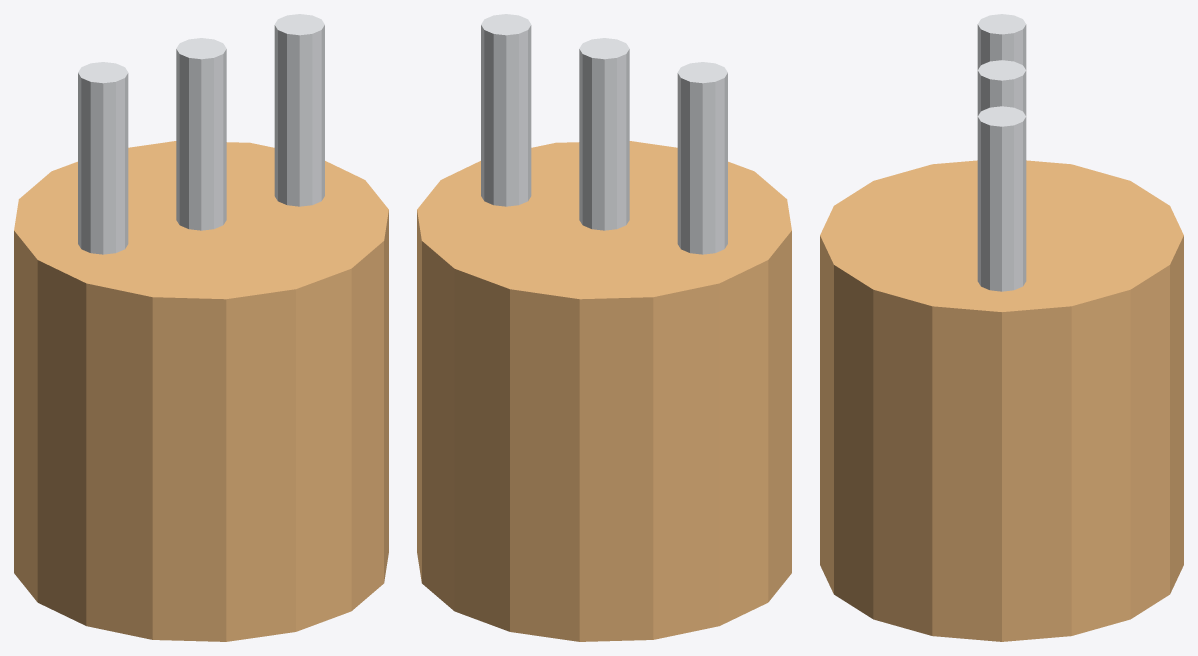
File: trafo.glb
The picture shows the model from 3 angles, left to right: view 1: azimuth 30°, elevation 25°; view 2: azimuth 150°, elevation 25°; view 3: azimuth 270°, elevation 25°; orthographic projection. The views are drawn at different scales.
Parts seen in each view (by area): view 1: tank, insul_1.8, insul_-1.8, insul_0; view 2: tank, insul_1.8, insul_-1.8, insul_0; view 3: tank, insul_1.8, insul_0, insul_-1.8.
Part boxes in pixels (x1,y1,x2,y2): tank: [14, 141, 388, 641]; insul_1.8: [274, 14, 324, 206]; insul_-1.8: [78, 62, 128, 254]; insul_0: [176, 38, 226, 230]; tank: [417, 141, 791, 641]; insul_1.8: [481, 14, 531, 206]; insul_-1.8: [677, 62, 727, 254]; insul_0: [579, 38, 629, 230]; tank: [820, 160, 1183, 641]; insul_1.8: [977, 106, 1026, 291]; insul_0: [977, 60, 1026, 115]; insul_-1.8: [977, 14, 1026, 69].
Bounding box in the file's own units: 6 × 9 × 6.
